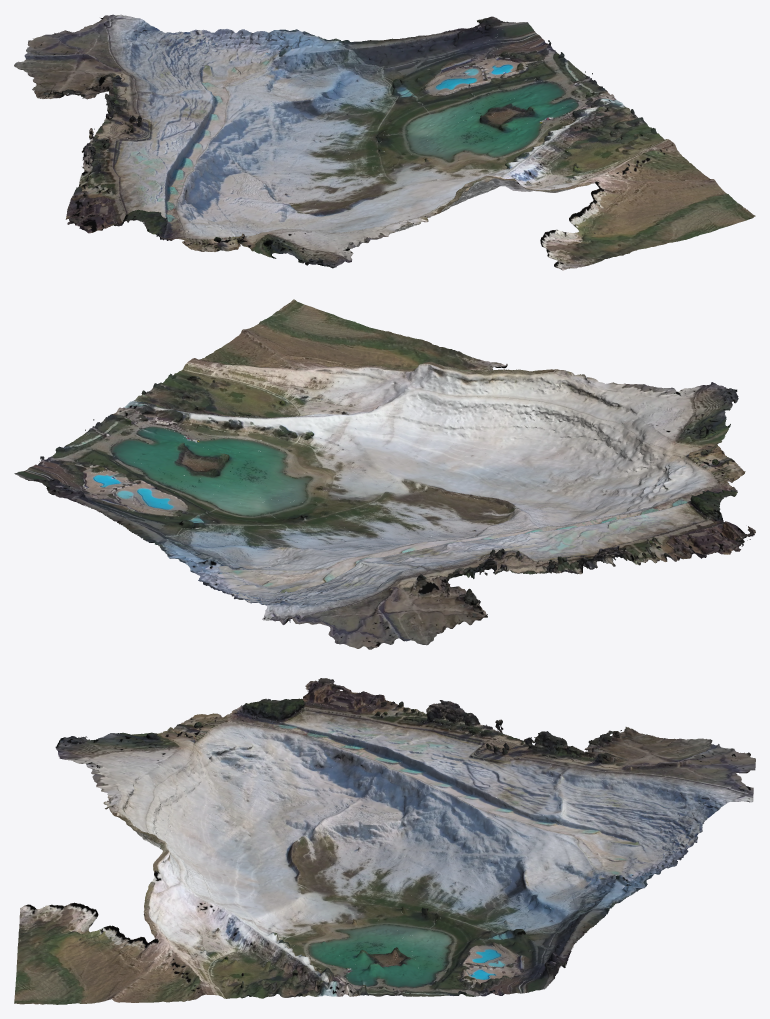
Rendered from sf-pamukkale-denizli-turkey-85bc3f.glb.
The picture shows the model from 3 angles, top to bottom: view 1: azimuth 30°, elevation 25°; view 2: azimuth 150°, elevation 25°; view 3: azimuth 270°, elevation 25°; orthographic projection. The views are drawn at different scales.
Parts seen in each view (by area): view 1: Object_2, Object_4; view 2: Object_2, Object_4; view 3: Object_2, Object_4.
Boxes of the visible parts, bbox=[...] form: Object_2: bbox=[71, 16, 755, 270]; Object_4: bbox=[14, 14, 668, 268]; Object_2: bbox=[14, 299, 750, 598]; Object_4: bbox=[37, 362, 755, 649]; Object_2: bbox=[14, 691, 696, 1004]; Object_4: bbox=[55, 678, 755, 998].
Bounding box in the file's own units: 132 × 14.27 × 138.
Materials: 2 (2 with a texture image).
